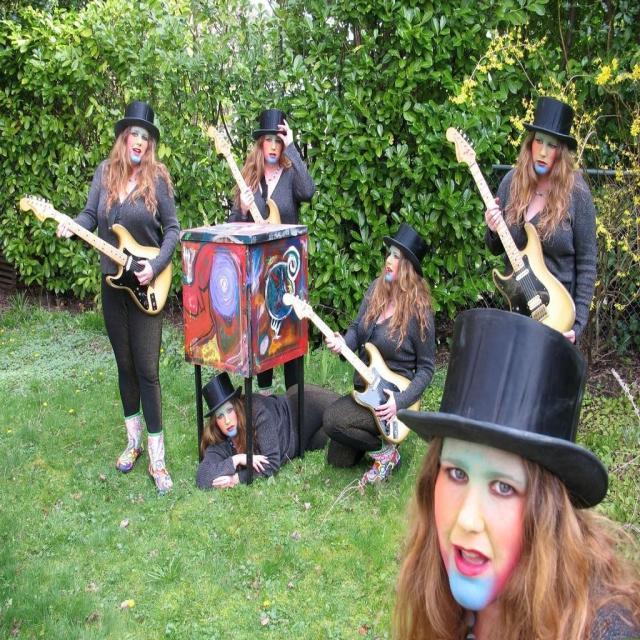guitar: (442, 122, 578, 336), (284, 290, 424, 444), (18, 192, 176, 320), (206, 124, 283, 225)
